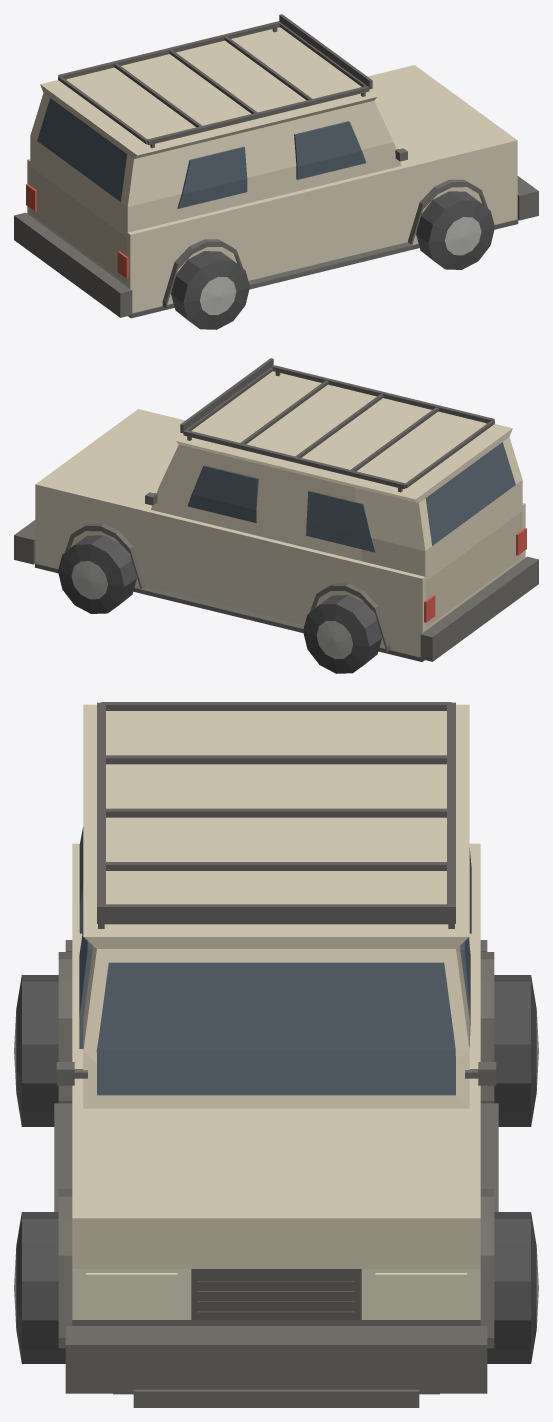
File: suvv (1).fbx
3 renders of one model, top to bottom at view 1: azimuth 30°, elevation 25°; view 2: azimuth 150°, elevation 25°; view 3: azimuth 270°, elevation 25°, orthographic. The views are drawn at different scales.
Visible parts, largest first — view 1: SUV.002, TIRE2, TIRE1; view 2: SUV.002, TIRE4, TIRE3; view 3: SUV.002, TIRE1, TIRE3, TIRE2, TIRE4.
Part boxes in pixels (left/top/right/bottom): SUV.002: left=14, top=14, right=538, bottom=318; TIRE2: left=171, top=251, right=249, bottom=329; TIRE1: left=416, top=191, right=494, bottom=269; SUV.002: left=14, top=358, right=538, bottom=661; TIRE4: left=303, top=595, right=381, bottom=673; TIRE3: left=58, top=535, right=136, bottom=613; SUV.002: left=54, top=702, right=498, bottom=1407; TIRE1: left=14, top=1212, right=65, bottom=1363; TIRE3: left=487, top=1212, right=538, bottom=1363; TIRE2: left=14, top=975, right=58, bottom=1126; TIRE4: left=494, top=975, right=538, bottom=1126.
Size of the model in its own units: 429 by 188 by 234.
